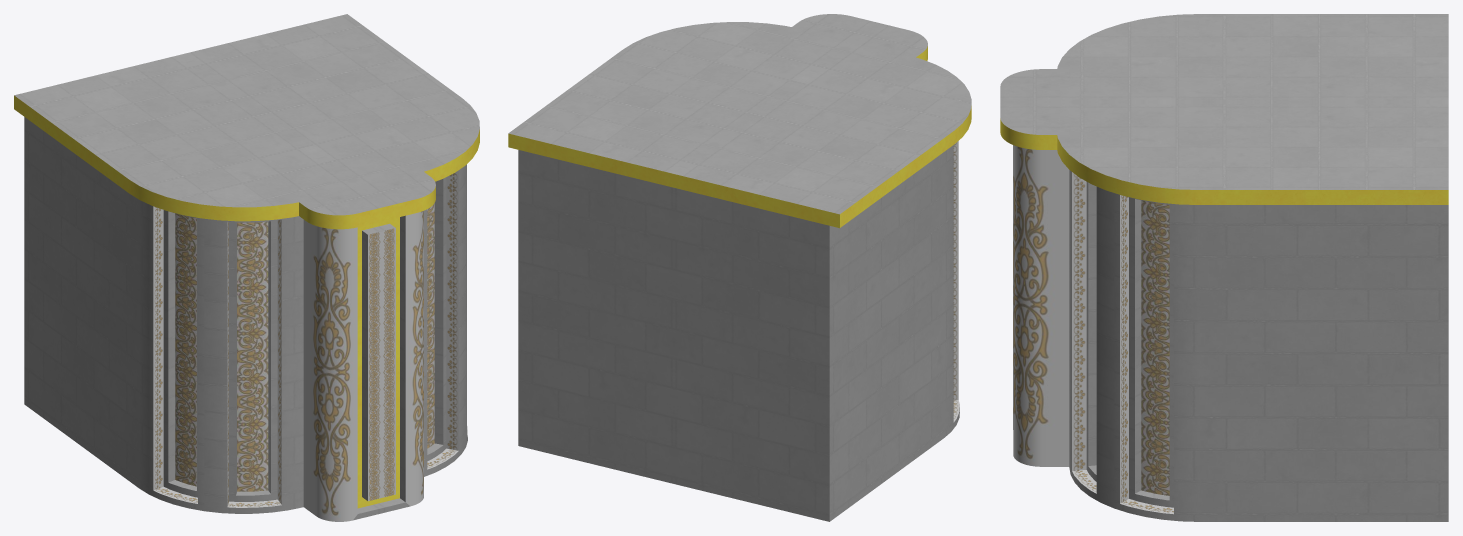
Rendered from SM_wall_module_round_01.glb.
3 renders of one model, left to right at view 1: azimuth 30°, elevation 25°; view 2: azimuth 150°, elevation 25°; view 3: azimuth 270°, elevation 25°, orthographic. The views are drawn at different scales.
Parts seen in each view (by area): view 1: SM_wall_module_round_01; view 2: SM_wall_module_round_01; view 3: SM_wall_module_round_01.
Boxes of the visible parts, <box> form: SM_wall_module_round_01: <box>14,14,479,521</box>; SM_wall_module_round_01: <box>508,14,971,521</box>; SM_wall_module_round_01: <box>1000,14,1448,521</box>.
Bounding box in the file's own units: 5.86 × 5.23 × 6.3.
4 materials, 4 textured.
